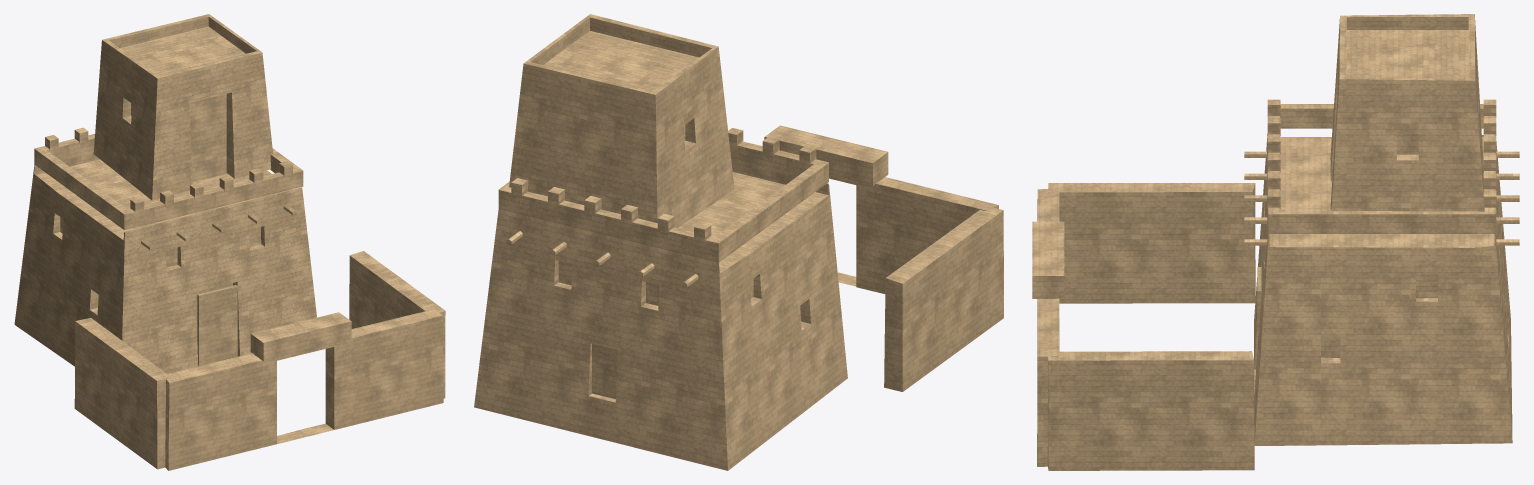
File: house-d.glb
The picture shows the model from 3 angles, left to right: view 1: azimuth 30°, elevation 25°; view 2: azimuth 150°, elevation 25°; view 3: azimuth 270°, elevation 25°; orthographic projection. The views are drawn at different scales.
Visible parts, largest first — view 1: house-d; view 2: house-d; view 3: house-d.
Boxes of the visible parts, x1=… form: house-d: x1=14, y1=14, x2=445, y2=470; house-d: x1=474, y1=14, x2=1003, y2=470; house-d: x1=1032, y1=14, x2=1519, y2=470.
Size of the model in its own units: 6.55 by 6.05 by 7.59.
1 material, 1 textured.
